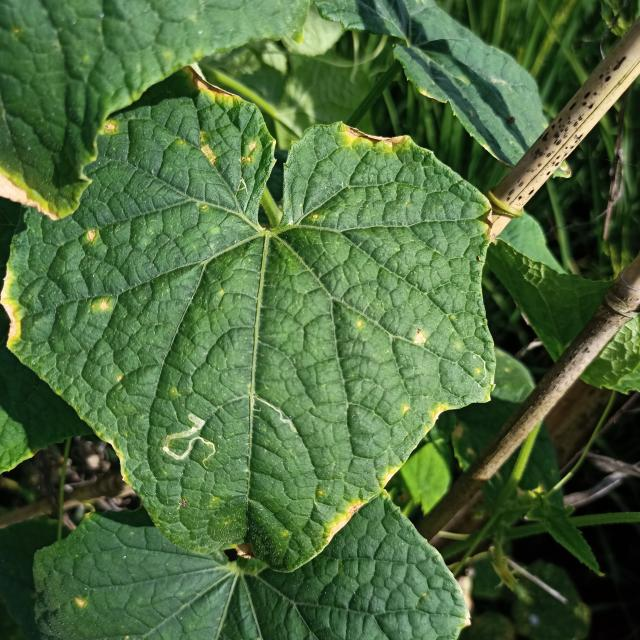disease_cucumber: (190, 84, 263, 178), (397, 394, 458, 432), (88, 293, 114, 322), (80, 226, 103, 248), (408, 328, 431, 349)
